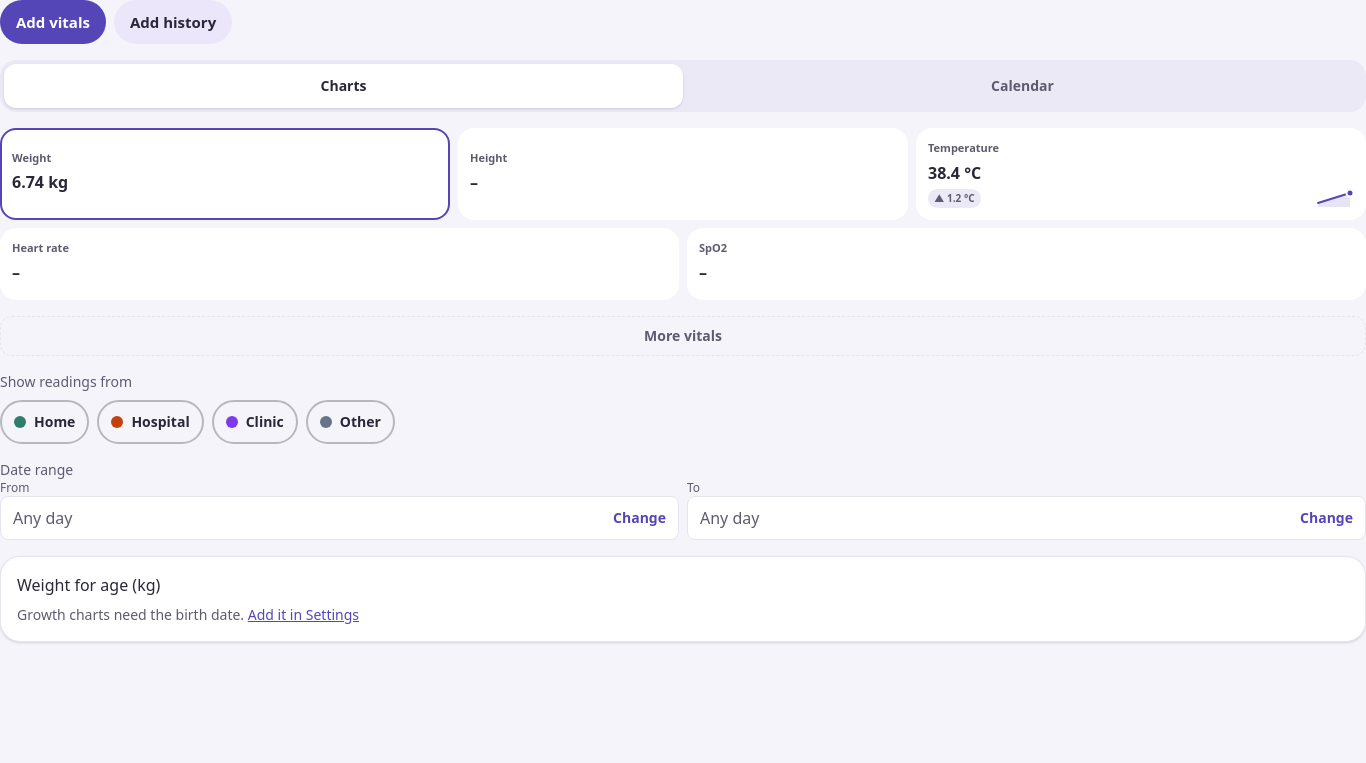
it: the vitals calendar asks for every reading and marks the days they were taken, fever days included
This screenshot has width=1366, height=763.
Click the radio button labelled "Calendar". click: (1022, 86)
box: [683, 64, 1362, 108]
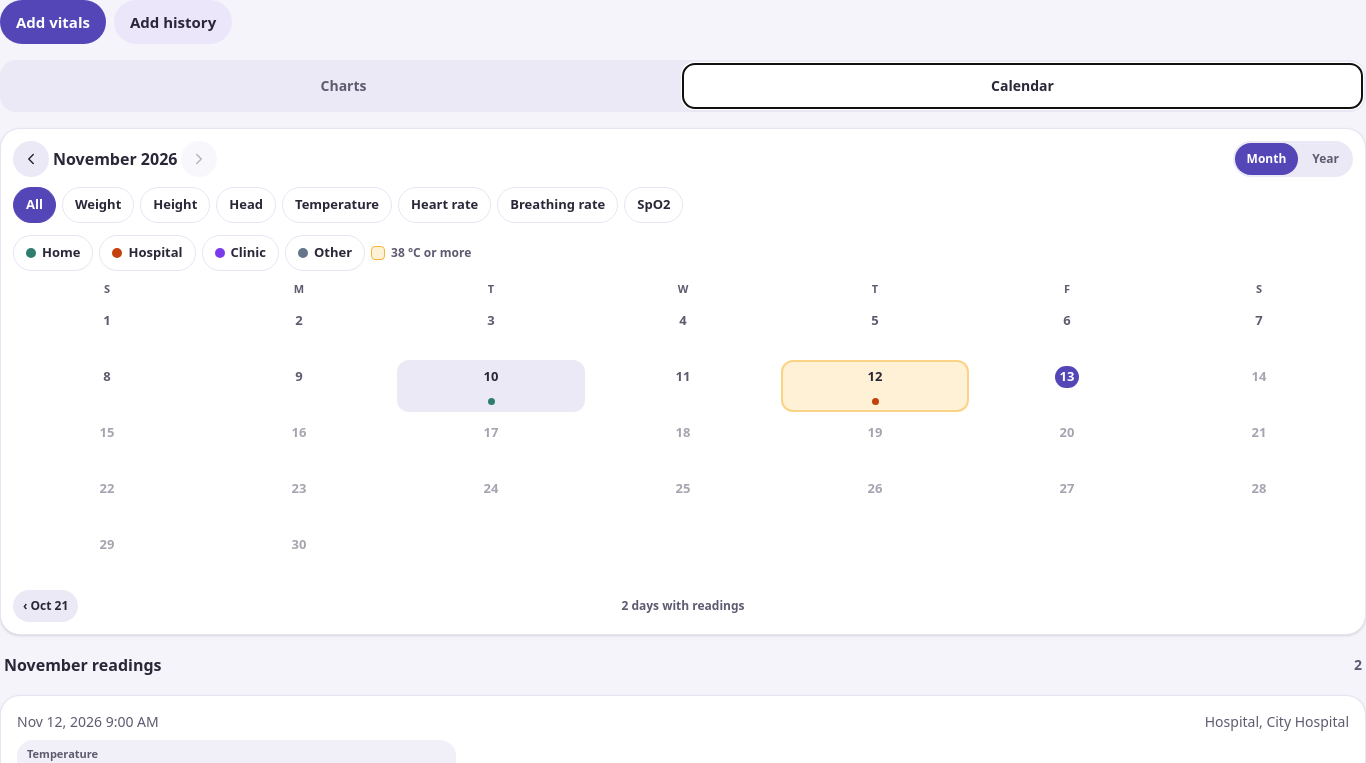
Result: the text "Hospital, City Hospital" is shown at [1205, 712, 1349, 732]
Result: the text "2 days with readings" is shown at [621, 598, 744, 614]
